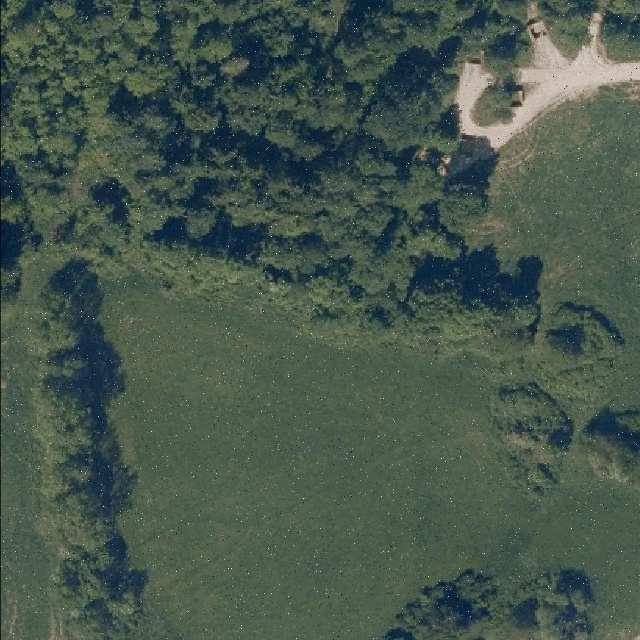vegetation: (2, 1, 638, 640), (381, 574, 594, 638)
